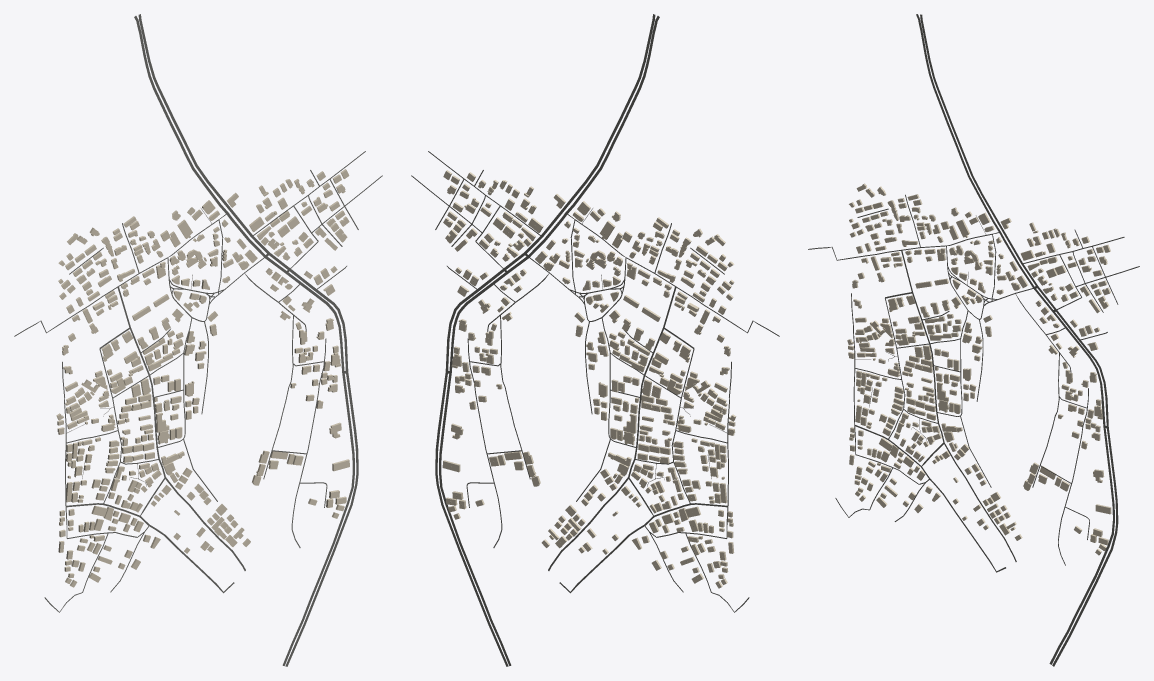
Rendered from historic-palestine-10_24_3521_3188.glb.
3 views of the same model, side by side, from view 1: azimuth 30°, elevation 25°; view 2: azimuth 150°, elevation 25°; view 3: azimuth 330°, elevation 25° (orthographic). The views are drawn at different scales.
Parts seen in each view (by area): view 1: Road شارع القدس.001, Road شارع القدس; view 2: Road شارع القدس.001, Road شارع القدس; view 3: Road شارع القدس, Road شارع القدس.001.
Boxes of the visible parts, x1=… form: Road شارع القدس.001: x1=138, y1=14, x2=358, y2=666; Road شارع القدس: x1=134, y1=16, x2=354, y2=665; Road شارع القدس.001: x1=435, y1=14, x2=655, y2=666; Road شارع القدس: x1=439, y1=16, x2=659, y2=665; Road شارع القدس: x1=916, y1=14, x2=1114, y2=664; Road شارع القدس.001: x1=920, y1=14, x2=1118, y2=666.
Bounding box in the file's own units: 1222 × 2180 × 13.79.
